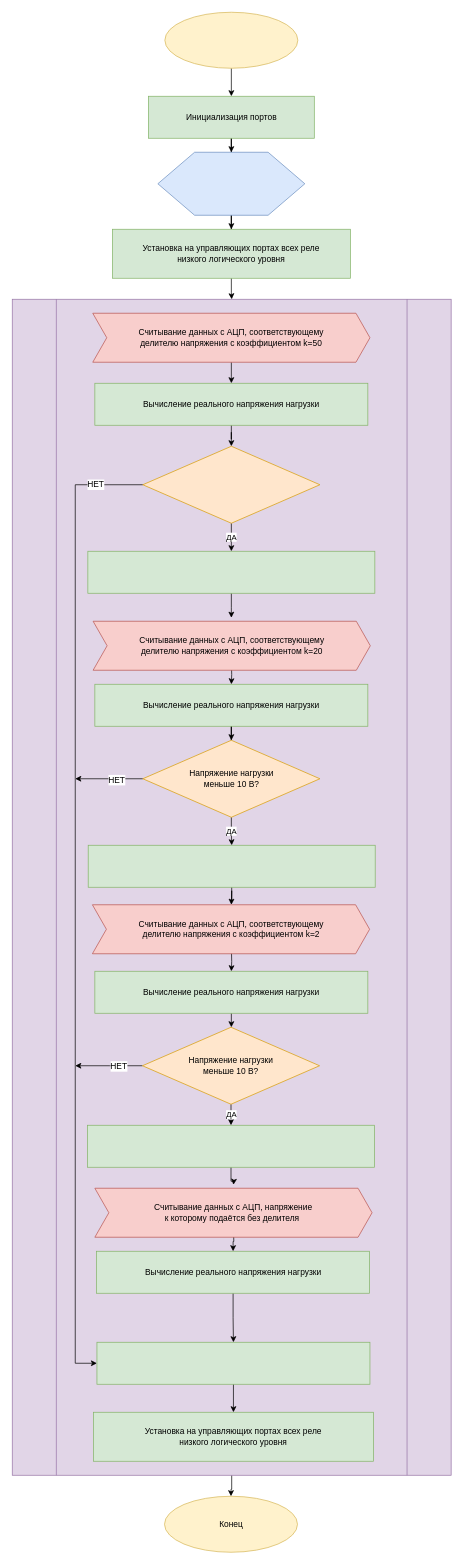
Image size: 463x1565. Some labels were removed from this diagram. Here are the shapes that lost their labels. From the top down, the centre of each, then its label:
At point 231,40: "Начало".
At point 231,183: "Основной цикл программы".
At point 231,484: "Напряжение нагрузки меньше 100 В?".
At point 231,572: "Установить на третьем реле значение управляющего напряжения, равное 5 В".
At point 231,866: "Установить на втором реле значение управляющего напряжения, равное 5 В".
At point 230,1146: "Установить на первом реле значение управляющего напряжения, равное 5 В".
At point 233,1363: "Вывод значения на дисплей".
